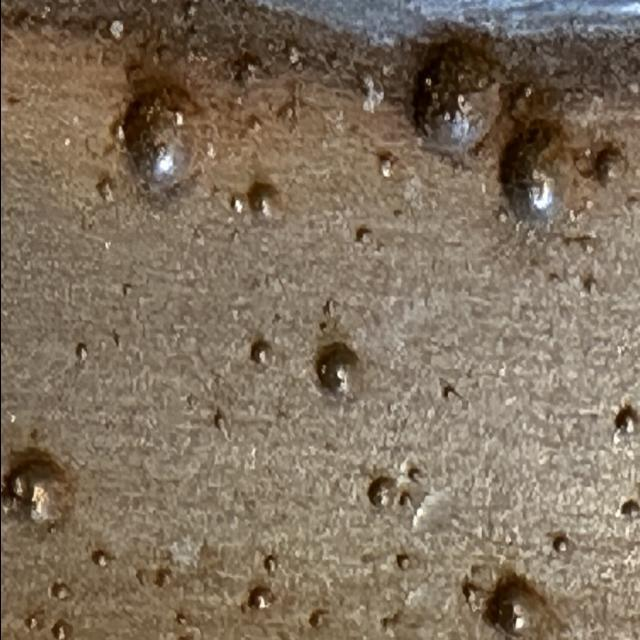Spatters: (410, 48, 498, 156), (123, 87, 197, 190), (500, 124, 571, 221), (0, 462, 63, 526), (482, 576, 546, 637), (313, 343, 358, 397), (354, 66, 383, 115), (594, 149, 627, 186), (248, 186, 275, 222), (366, 478, 394, 509), (613, 406, 638, 436), (400, 495, 423, 525), (247, 587, 273, 611), (247, 342, 269, 369), (214, 413, 229, 442), (95, 180, 112, 205), (107, 19, 122, 45), (620, 502, 640, 521), (378, 158, 392, 180), (287, 42, 300, 65), (112, 121, 123, 147), (229, 194, 242, 216), (356, 228, 371, 245), (75, 340, 87, 361), (553, 537, 567, 554), (495, 208, 508, 225), (185, 1, 198, 18), (54, 620, 65, 640), (51, 587, 66, 601), (249, 115, 260, 133), (394, 557, 408, 571), (92, 553, 105, 568), (122, 283, 132, 300), (588, 279, 596, 299), (267, 556, 275, 573), (523, 86, 532, 99), (29, 616, 36, 632), (463, 589, 472, 601), (328, 300, 334, 318), (177, 614, 186, 625), (550, 273, 559, 284), (318, 322, 327, 333), (266, 42, 274, 53), (391, 210, 403, 217)
